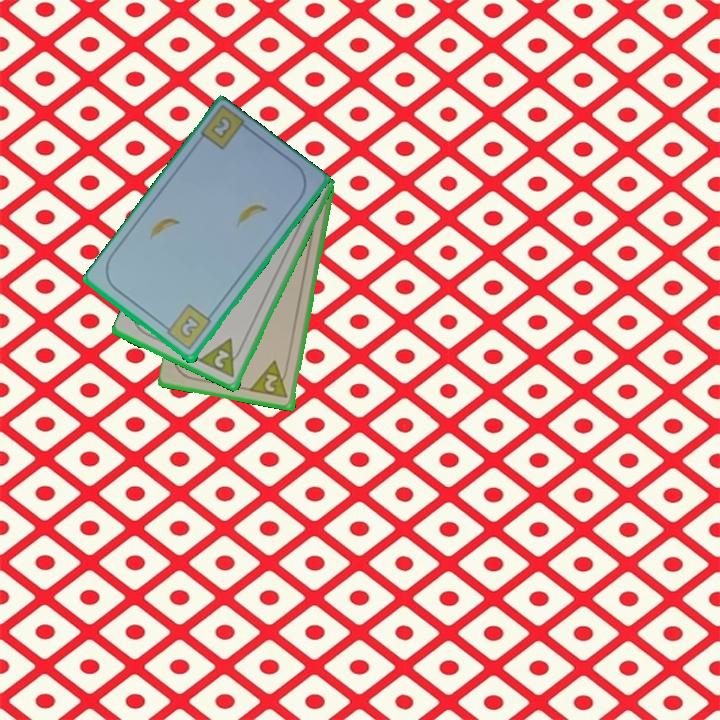2b: (159, 301, 214, 353), (208, 113, 235, 142)
2p: (248, 358, 292, 401), (211, 346, 232, 371)
